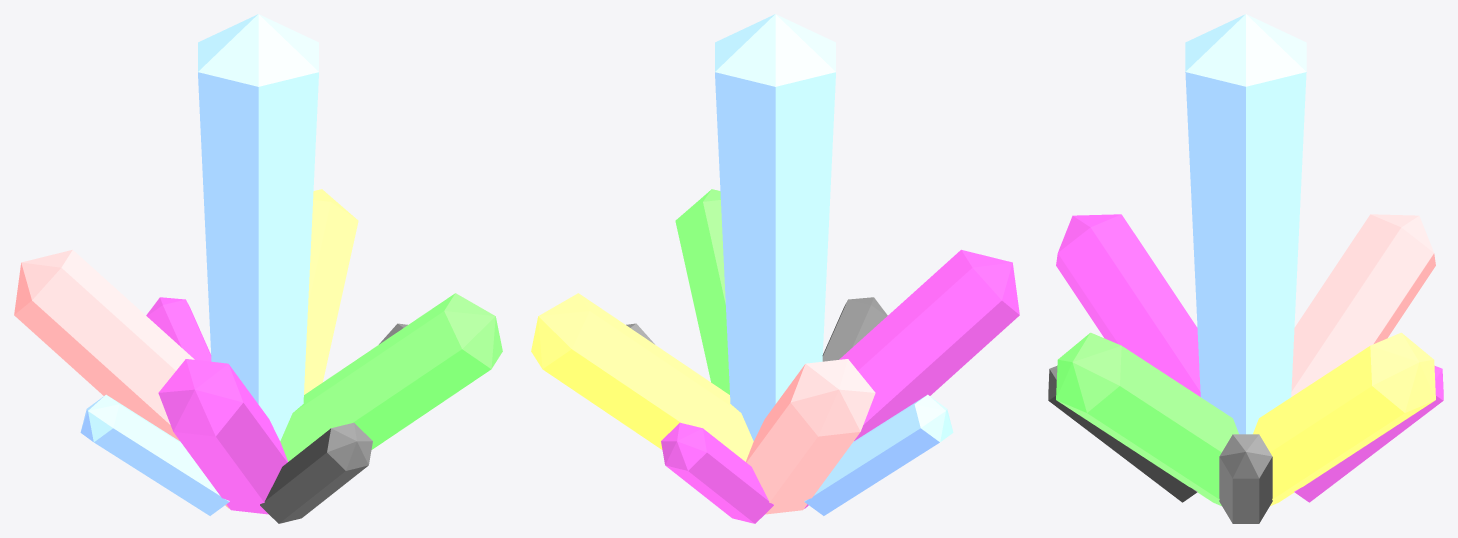
The model's file is EV_Crystal_SM_01.FBX.
3 views of the same model, side by side, from view 1: azimuth 30°, elevation 25°; view 2: azimuth 150°, elevation 25°; view 3: azimuth 270°, elevation 25° (orthographic).
Visible parts, largest first — view 1: EV_crystal_SM_01; view 2: EV_crystal_SM_01; view 3: EV_crystal_SM_01.
Part boxes in pixels (x1,y1,x2,y2): EV_crystal_SM_01: [14, 14, 502, 523]; EV_crystal_SM_01: [531, 14, 1019, 523]; EV_crystal_SM_01: [1048, 14, 1443, 523].
Bounding box in the file's own units: 41.84 × 57.02 × 41.84.
